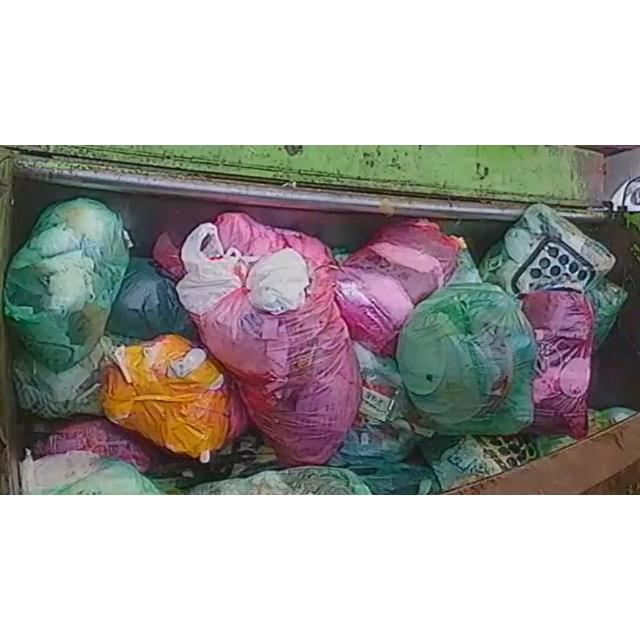general_trashbag: (5, 198, 129, 372), (396, 282, 536, 434), (479, 204, 615, 294), (586, 278, 628, 349)
other_trashbag: (160, 212, 361, 465), (336, 219, 464, 356), (521, 290, 594, 439)
